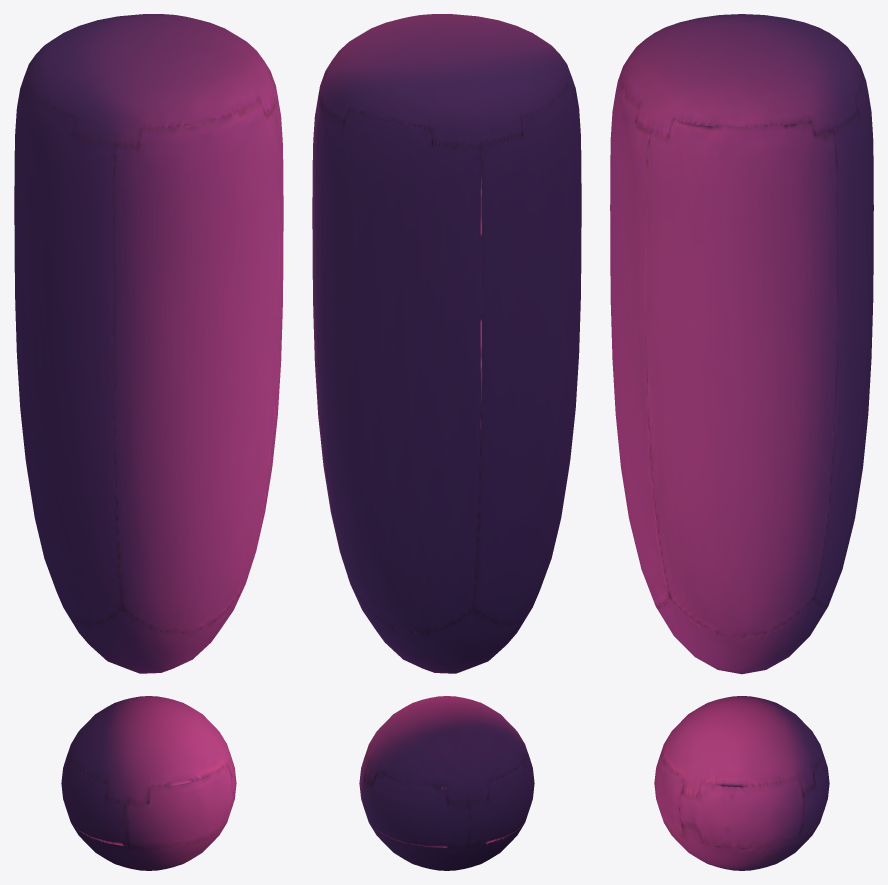
The model's file is comingSoonOne.glb.
3 renders of one model, left to right at view 1: azimuth 30°, elevation 25°; view 2: azimuth 150°, elevation 25°; view 3: azimuth 270°, elevation 25°, orthographic.
Visible parts, largest first — view 1: Coming soon.002; view 2: Coming soon.002; view 3: Coming soon.002.
Part boxes in pixels (box(x1,y1,x2,y2)): Coming soon.002: box(14, 14, 283, 870); Coming soon.002: box(312, 14, 581, 870); Coming soon.002: box(610, 14, 873, 870).
Bounding box in the file's own units: 0.5017 × 1.73 × 0.5017.
Materials: 1 (1 with a texture image).
